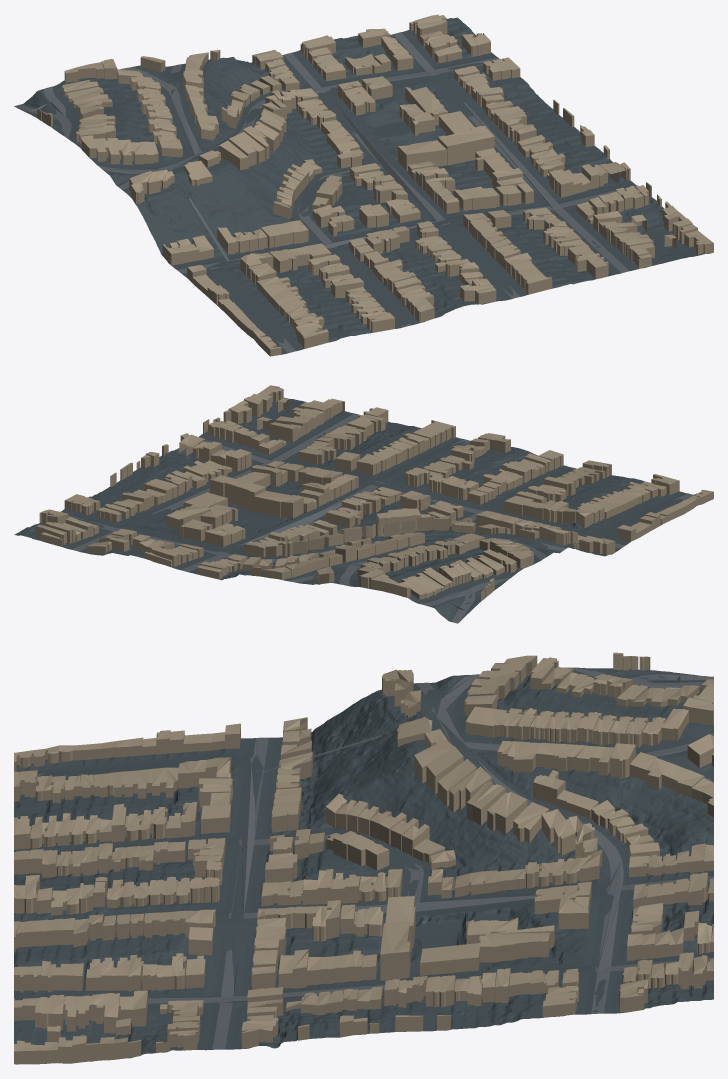
Rendered from epsg26910-1423-10883.lod0.glb.
3 renders of one model, top to bottom at view 1: azimuth 30°, elevation 25°; view 2: azimuth 150°, elevation 25°; view 3: azimuth 270°, elevation 25°, orthographic. The views are drawn at different scales.
Visible parts, largest first — view 1: epsg26910-1423-10883-lod0; view 2: epsg26910-1423-10883-lod0; view 3: epsg26910-1423-10883-lod0.
Part boxes in pixels (box(x1,y1,x2,y2)): epsg26910-1423-10883-lod0: box(14, 14, 713, 356); epsg26910-1423-10883-lod0: box(14, 385, 713, 623); epsg26910-1423-10883-lod0: box(14, 652, 713, 1064).
Size of the model in its own units: 384 by 76.19 by 384.
